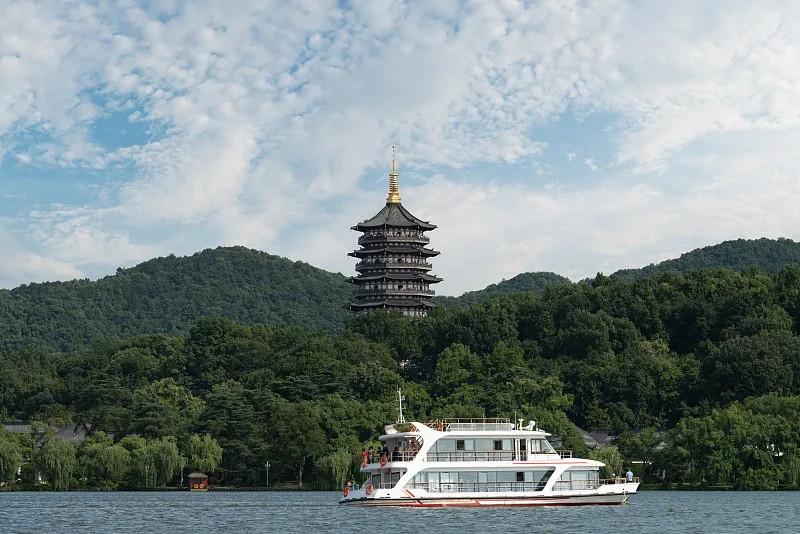Leifeng: (346, 145, 442, 327)
